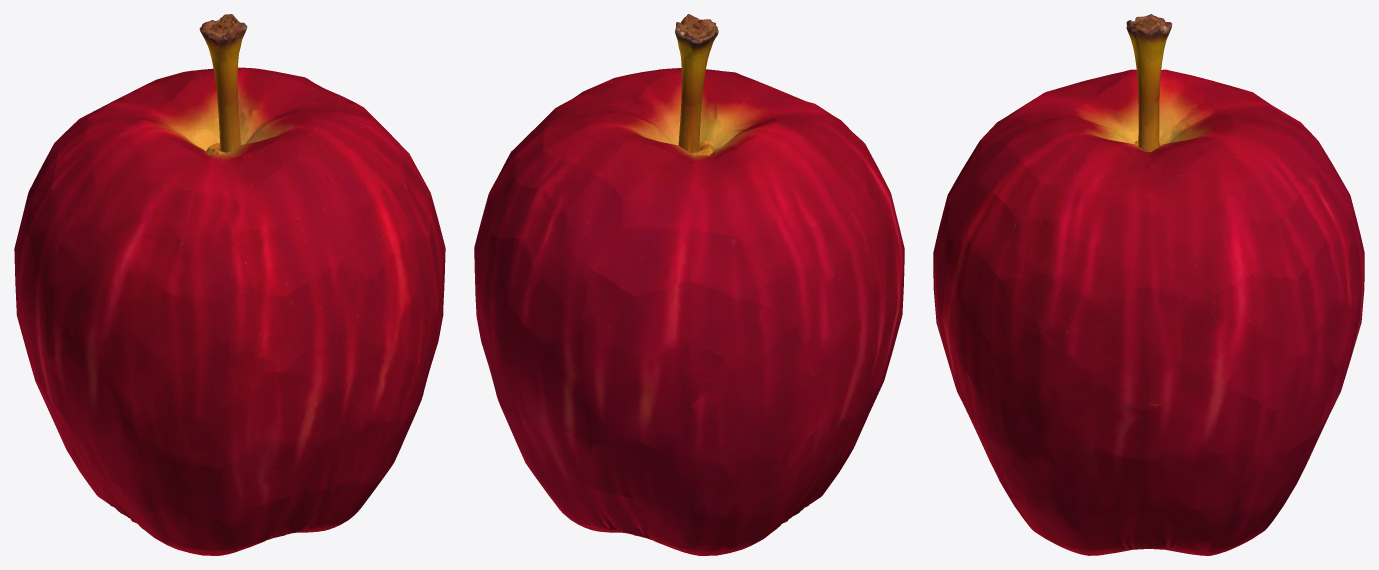
The model's file is kitchen-apple-07.glb.
The picture shows the model from 3 angles, left to right: view 1: azimuth 30°, elevation 25°; view 2: azimuth 150°, elevation 25°; view 3: azimuth 270°, elevation 25°; orthographic projection.
Size of the model in its own units: 1.48 by 1.9 by 1.48.
Materials: 1 (1 with a texture image).
